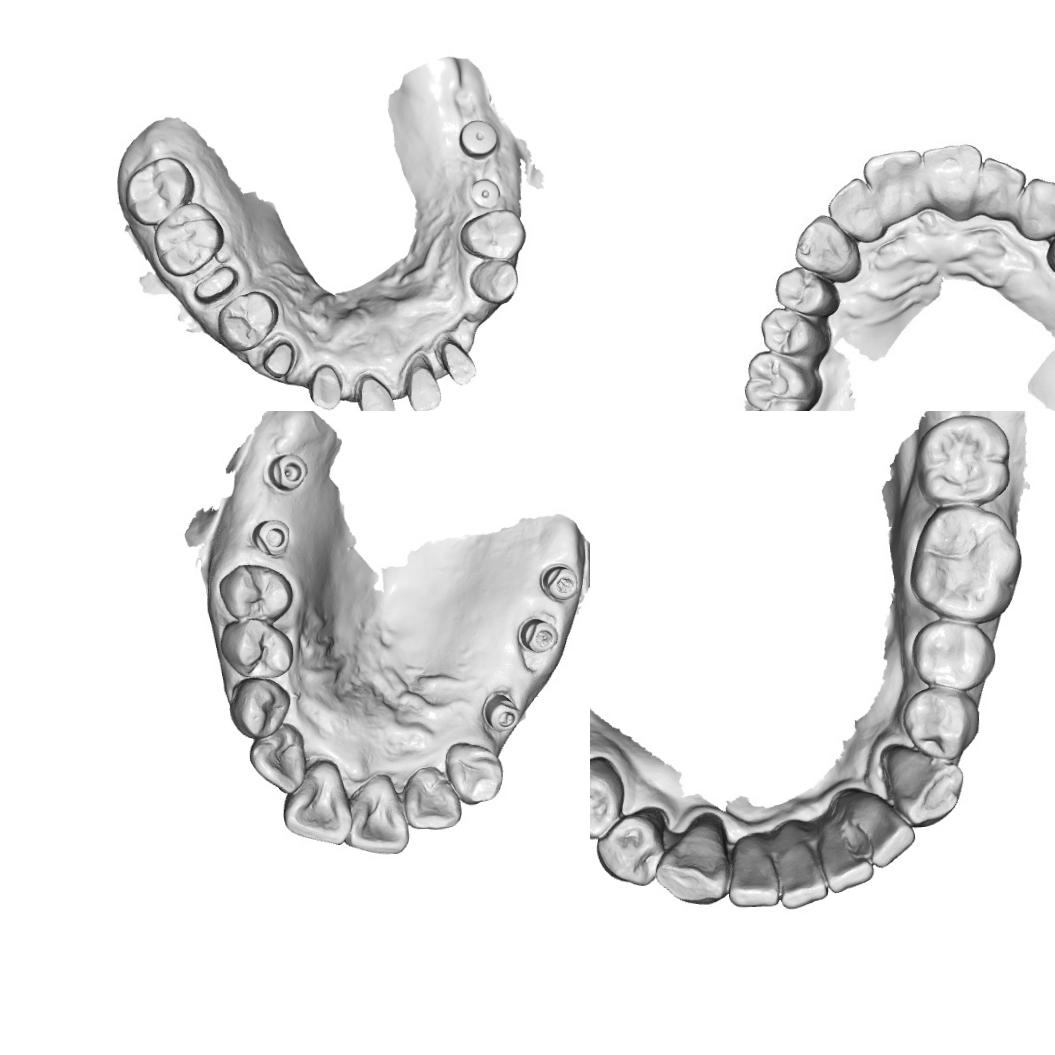canine: (653, 814, 737, 909), (884, 742, 965, 829), (794, 210, 860, 280), (226, 677, 290, 741), (444, 740, 505, 807), (1013, 175, 1055, 243), (466, 258, 521, 306)
crown: (190, 262, 240, 306), (437, 336, 478, 387), (402, 360, 443, 411), (306, 360, 344, 411), (355, 370, 398, 411), (260, 339, 297, 380)
implant: (483, 689, 525, 738), (456, 116, 500, 159), (538, 561, 579, 603), (518, 614, 558, 656), (265, 453, 305, 492), (256, 518, 292, 558), (468, 176, 503, 211)
incisor: (279, 764, 352, 847), (343, 778, 412, 857), (918, 138, 982, 222), (850, 795, 917, 871), (247, 720, 311, 798), (860, 146, 924, 218), (403, 764, 463, 833), (823, 176, 881, 244), (726, 842, 784, 910), (775, 839, 829, 912), (978, 153, 1028, 224), (822, 826, 874, 894)
molar: (905, 503, 1025, 625), (915, 412, 1010, 510), (150, 200, 228, 280), (122, 154, 198, 229), (741, 347, 823, 411)
premolar: (908, 617, 998, 693), (900, 686, 982, 762), (594, 812, 668, 890), (216, 617, 292, 682), (218, 562, 294, 623), (215, 288, 282, 354), (758, 306, 832, 360), (457, 208, 527, 263), (774, 265, 842, 318), (590, 755, 628, 841)
